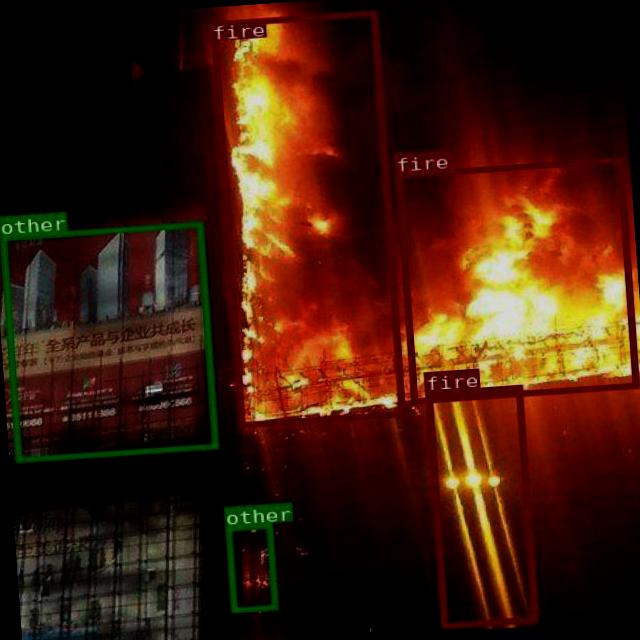fire: (208, 9, 404, 426), (393, 156, 638, 402), (424, 384, 537, 628)
